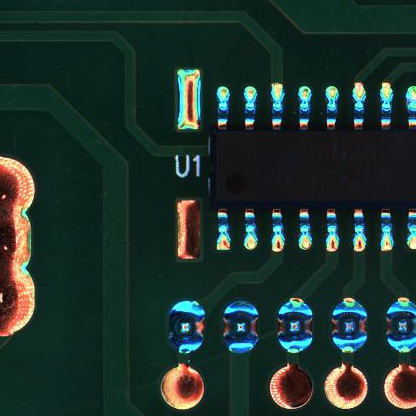spot: (272, 295, 319, 356), (328, 296, 370, 355), (219, 298, 259, 355), (167, 296, 204, 354), (382, 294, 415, 355)
